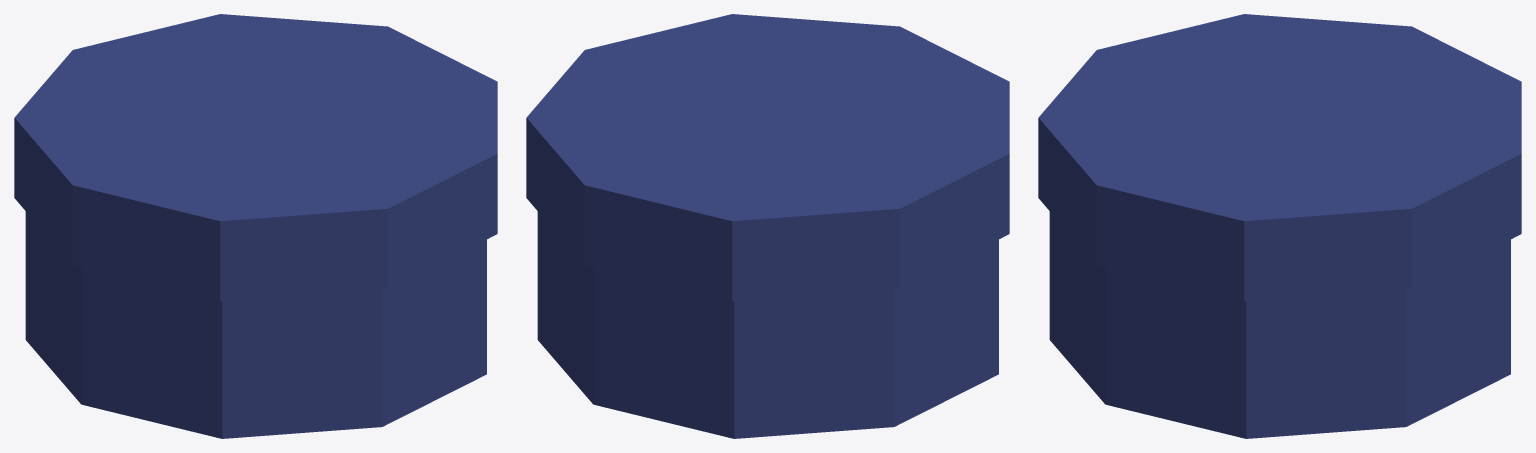
The picture shows the model from 3 angles, left to right: view 1: azimuth 30°, elevation 25°; view 2: azimuth 150°, elevation 25°; view 3: azimuth 270°, elevation 25°; orthographic projection.
Visible parts, largest first — view 1: Box_10; view 2: Box_10; view 3: Box_10.
Boxes of the visible parts, <box> form: Box_10: <box>14,14,497,438</box>; Box_10: <box>526,14,1009,438</box>; Box_10: <box>1038,14,1521,438</box>.
Size of the model in its own units: 16 by 15.76 by 8.01.
